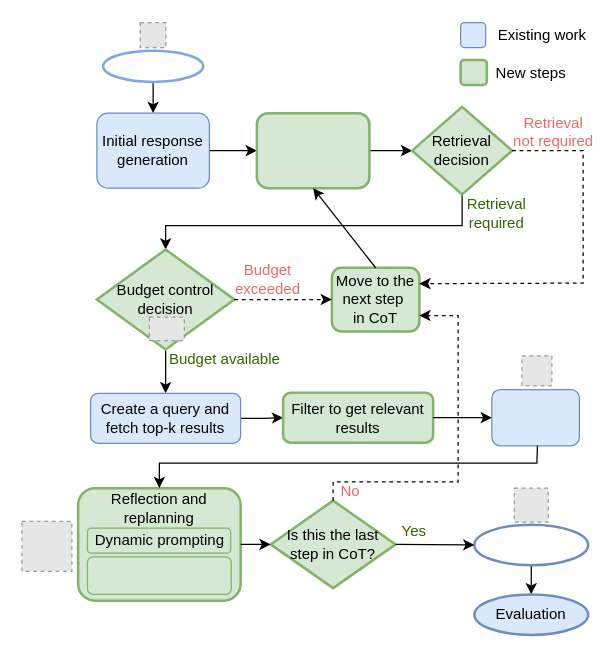
This 616x658 diagram has some shape labels left out. Grey dashed boxes stand in for pictures. Here are the shapes that lost their labels. From the top down, the centre of each, then its label:
pixel 152 65: User query
pixel 312 150: Uncertainty evaluation of step ' n '
pixel 535 417: Draft a revised response
pixel 530 544: Final response
pixel 158 575: Retrieval and trajectory correction
